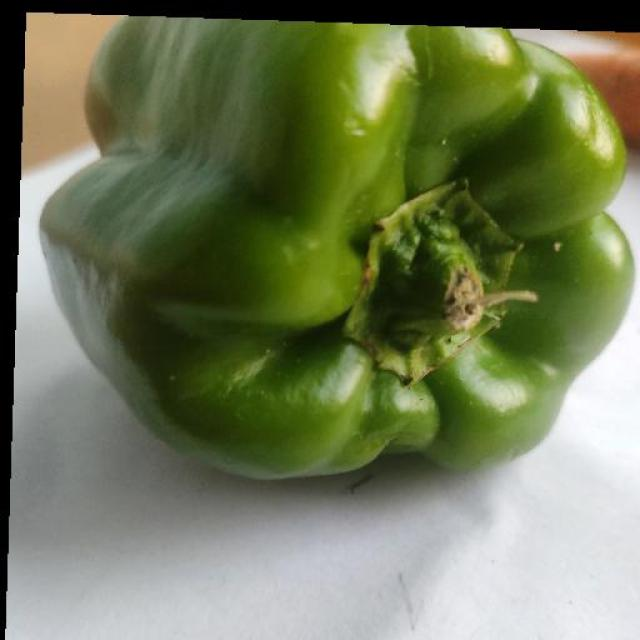Fresh_Capsicum: (56, 0, 602, 502)
